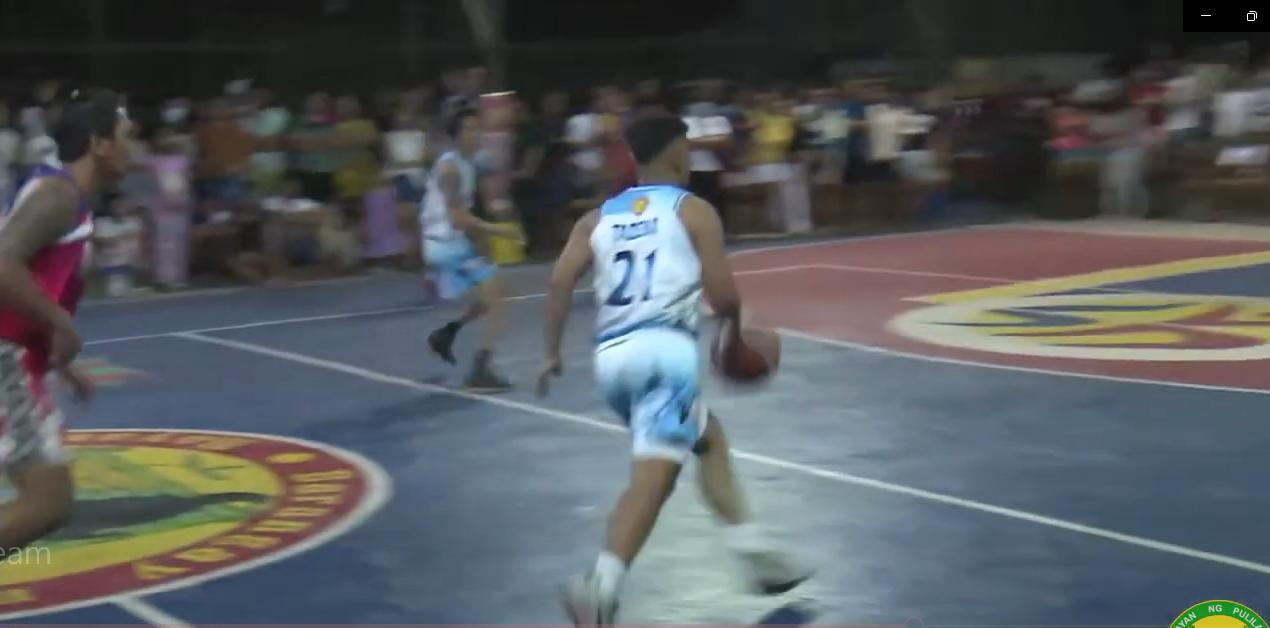ball: (708, 307, 795, 392)
human: (525, 103, 818, 628), (0, 62, 148, 628), (412, 92, 522, 425)
